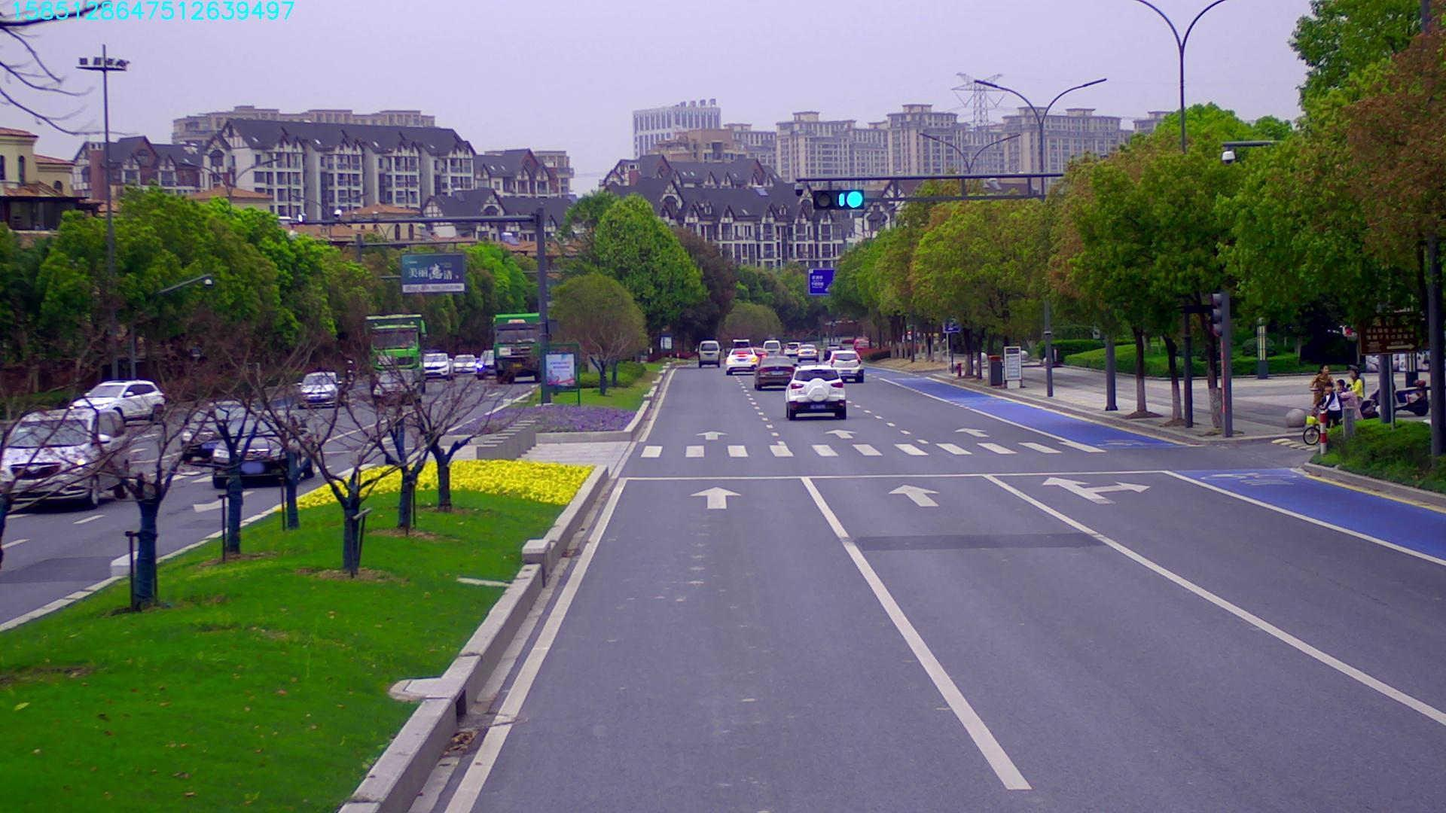green: (808, 188, 864, 212)
